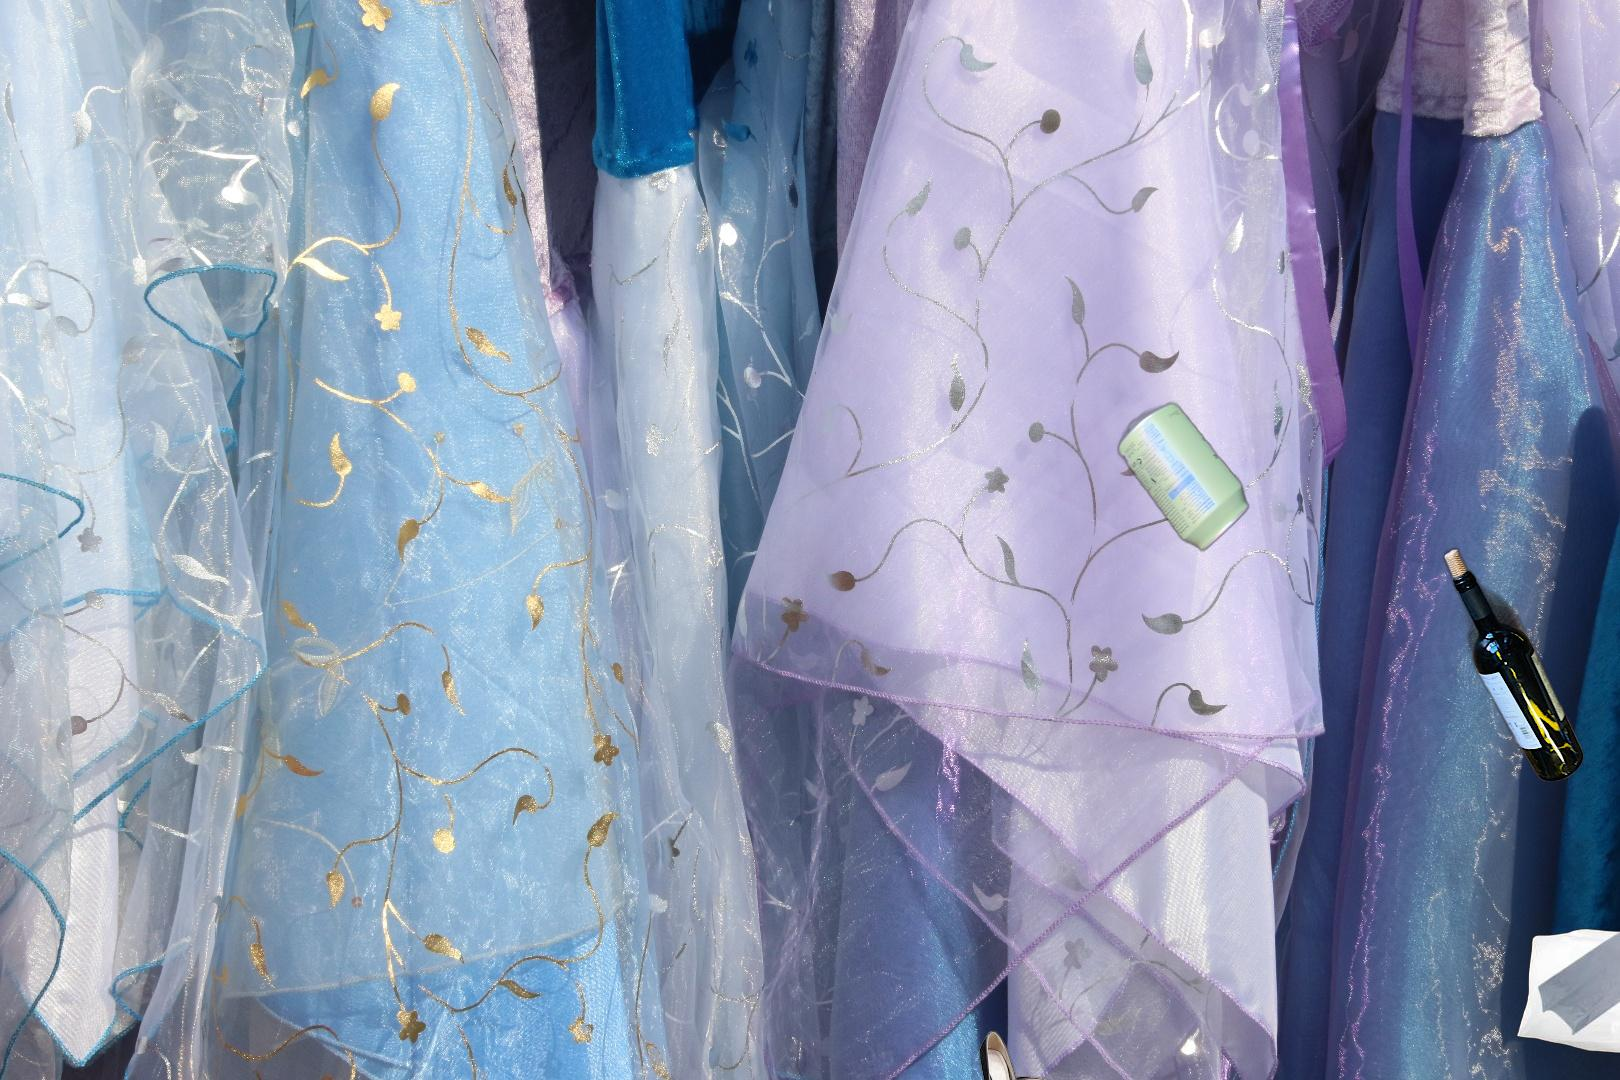glass: (1439, 542, 1589, 788)
metal-cans: (1114, 397, 1452, 611)
plastic-bag: (1514, 915, 1620, 1057)
shoes: (959, 1028, 1056, 1080)
